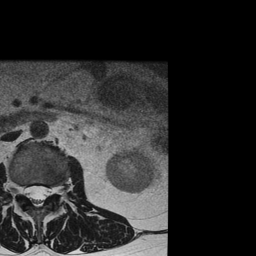CCS_normal: (33, 178, 41, 213)
LFS_normal: (50, 178, 59, 201)
LLS_normal: (41, 180, 50, 207)
RFS_normal: (17, 178, 25, 201)
RLS_normal: (24, 179, 33, 206)
